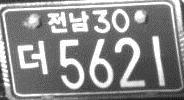0: (111, 7, 130, 34)
1: (150, 33, 166, 87)
2: (113, 36, 146, 89)
3: (90, 9, 111, 33)
5: (58, 37, 85, 90)
6: (88, 37, 115, 88)
더: (16, 39, 48, 74)
전남_O: (47, 9, 90, 33)
